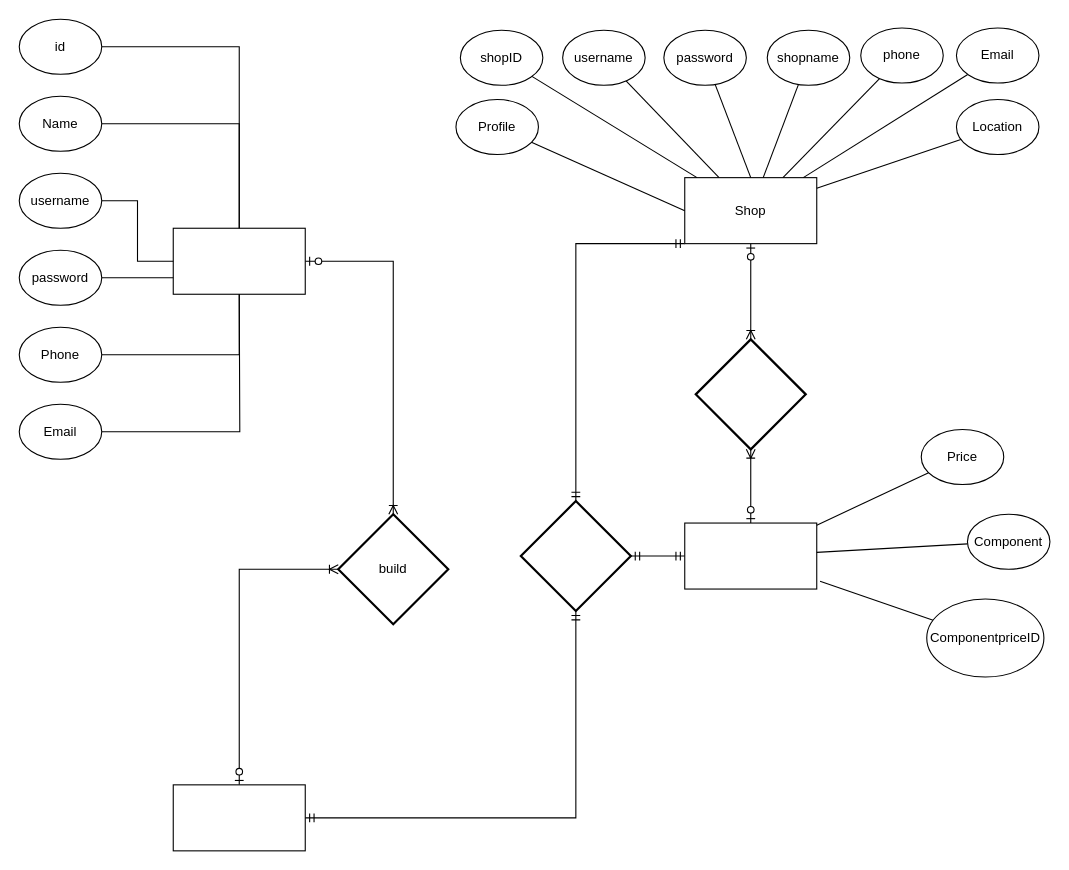
Image size: 1069x870. Some labels were removed from this diagram. The box of each missing label's shape, as (x1, y1, x2, y2) in pixels:
Add price: (694, 338, 806, 450)
ComponentPrice: (684, 522, 817, 589)
Product: (172, 784, 305, 851)
Sell by: (519, 499, 631, 612)
User: (172, 227, 305, 294)
